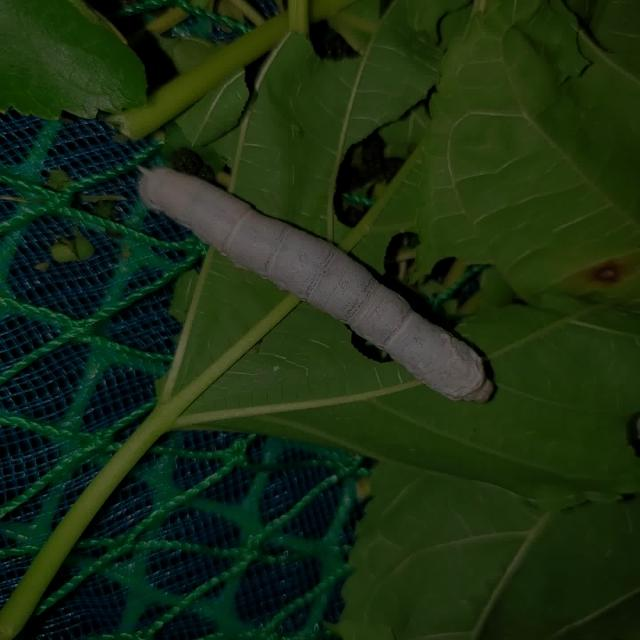Healthy: (116, 137, 522, 431)
